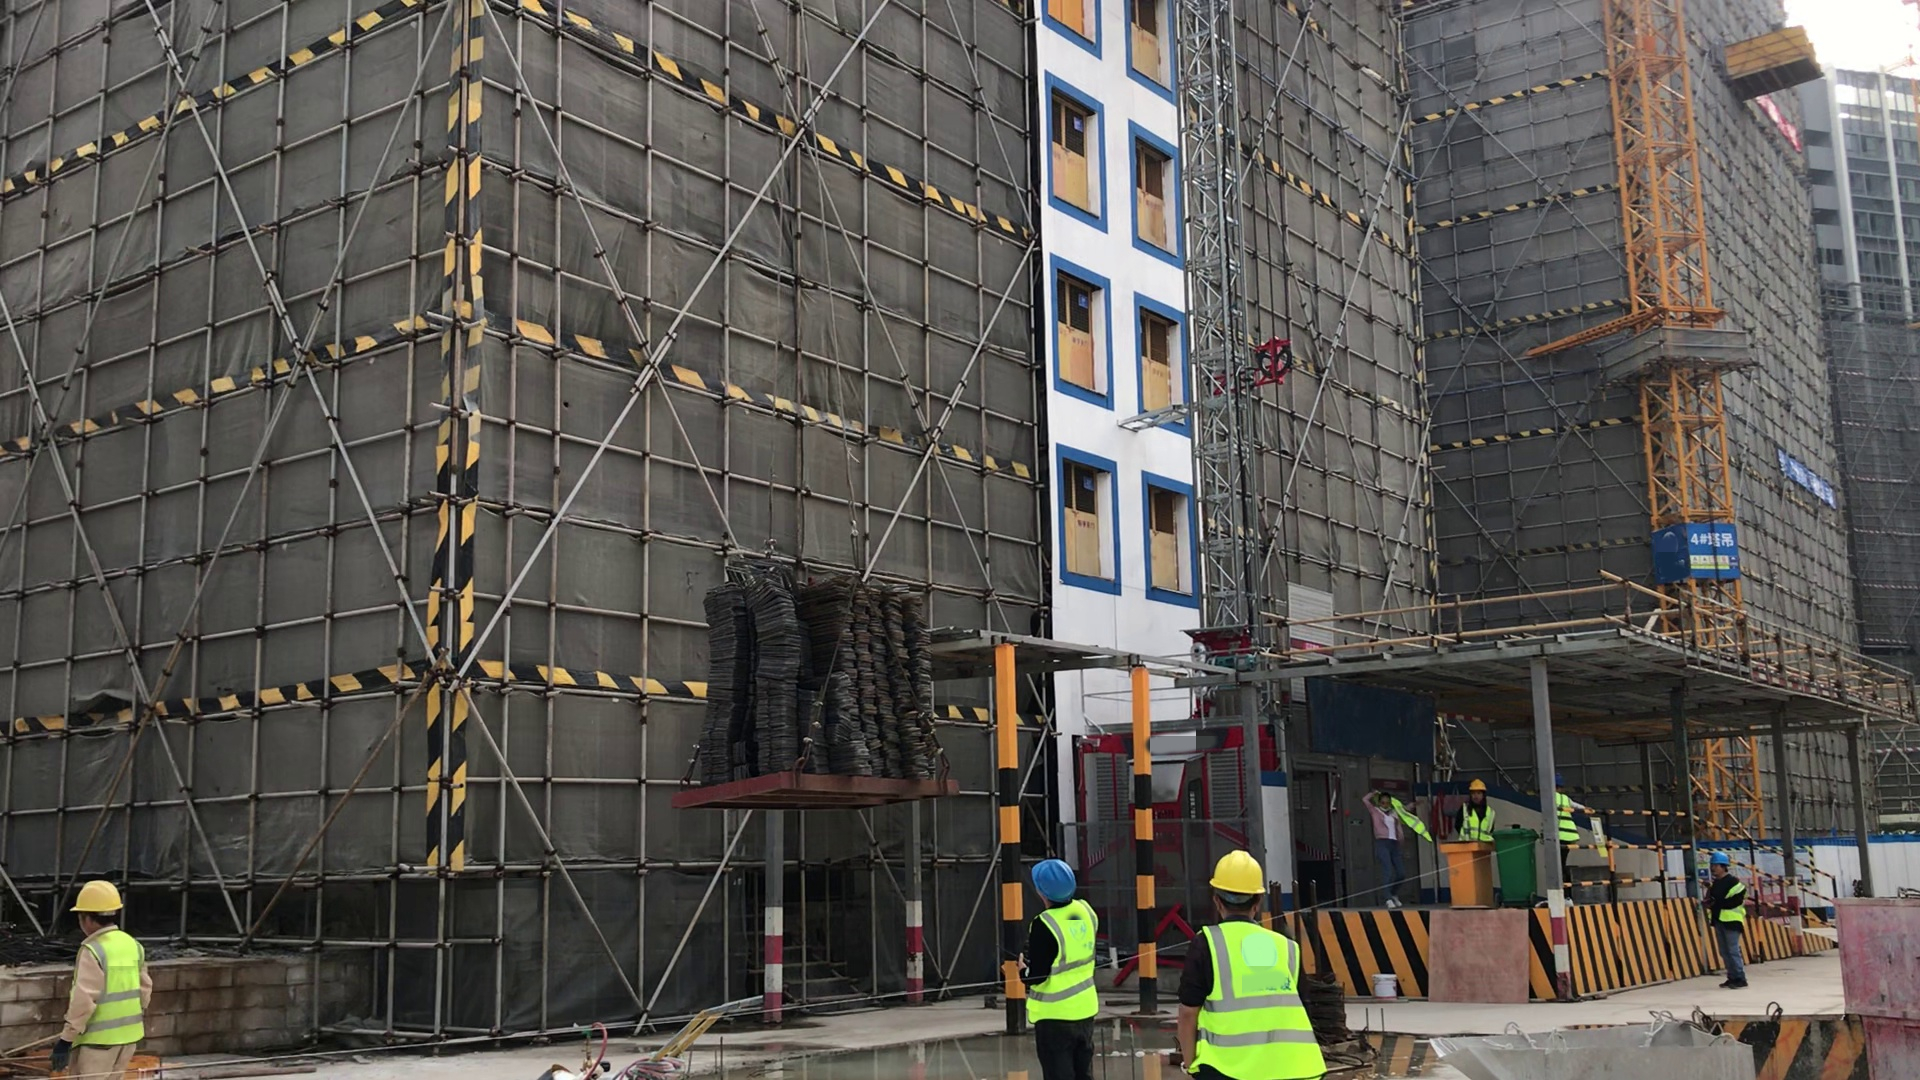helmet: (1202, 841, 1274, 906), (1016, 850, 1093, 906), (67, 870, 152, 912), (1702, 843, 1739, 868), (1469, 769, 1492, 795)
person: (1182, 816, 1340, 1080), (36, 856, 179, 1080), (992, 827, 1111, 1080), (1688, 829, 1770, 1011), (1356, 765, 1431, 910), (1546, 769, 1596, 883), (1448, 761, 1504, 850)
vest: (1183, 903, 1352, 1080), (52, 923, 168, 1049), (1024, 895, 1106, 1032), (1386, 796, 1436, 847), (1706, 878, 1759, 926), (1456, 795, 1502, 849), (1548, 789, 1587, 847)
